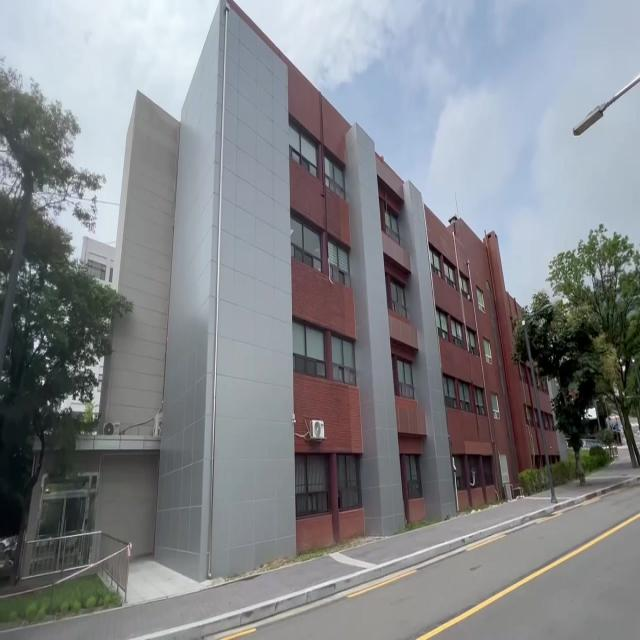building: (182, 119, 520, 514)
